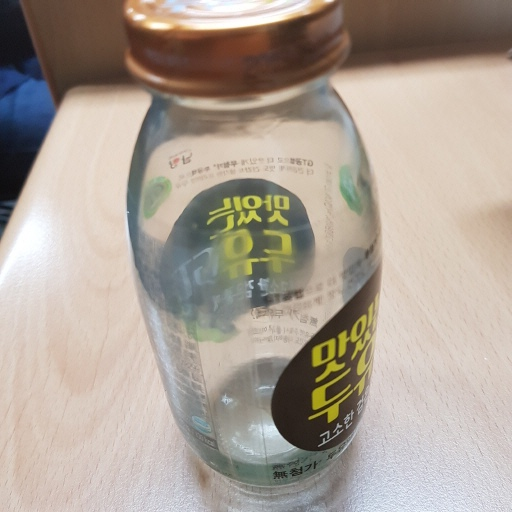Glass_4: (114, 1, 388, 492)
